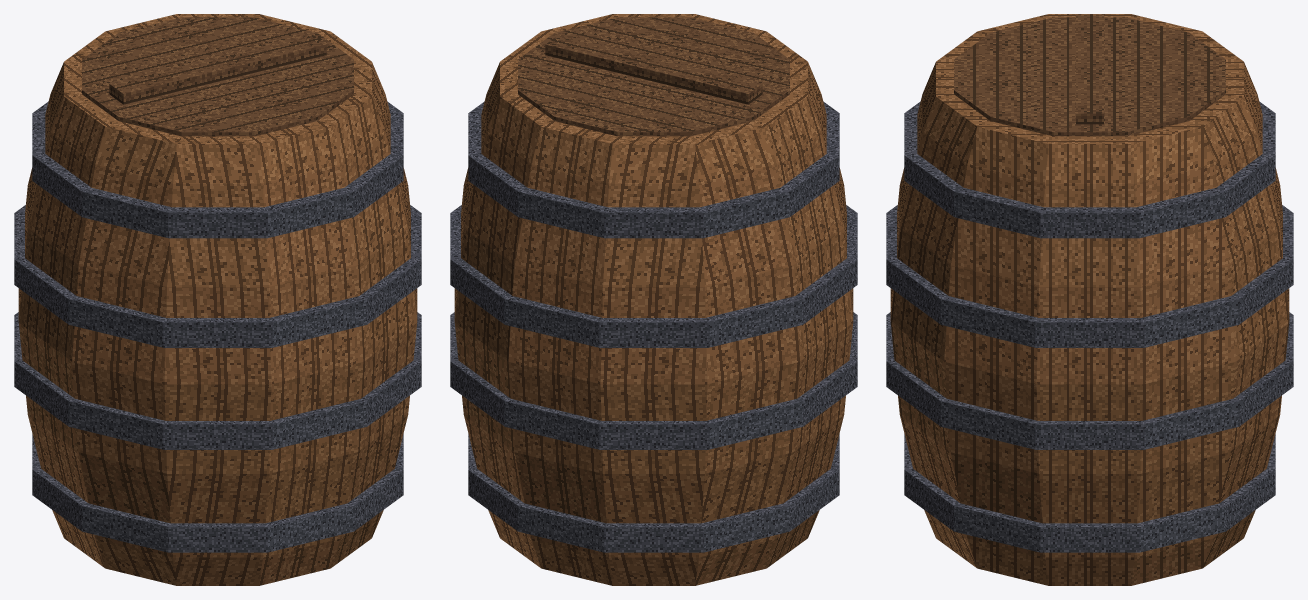
File: barrel_wood.glb
3 renders of one model, left to right at view 1: azimuth 30°, elevation 25°; view 2: azimuth 150°, elevation 25°; view 3: azimuth 270°, elevation 25°, orthographic.
Visible parts, largest first — view 1: Body.001; view 2: Body.001; view 3: Body.001.
Part boxes in pixels (x1,y1,x2,y2): Body.001: (14,14,421,585); Body.001: (450,14,857,585); Body.001: (886,14,1293,585).
Bounding box in the file's own units: 0.8693 × 1.07 × 0.8693.
3 materials, 3 textured.
